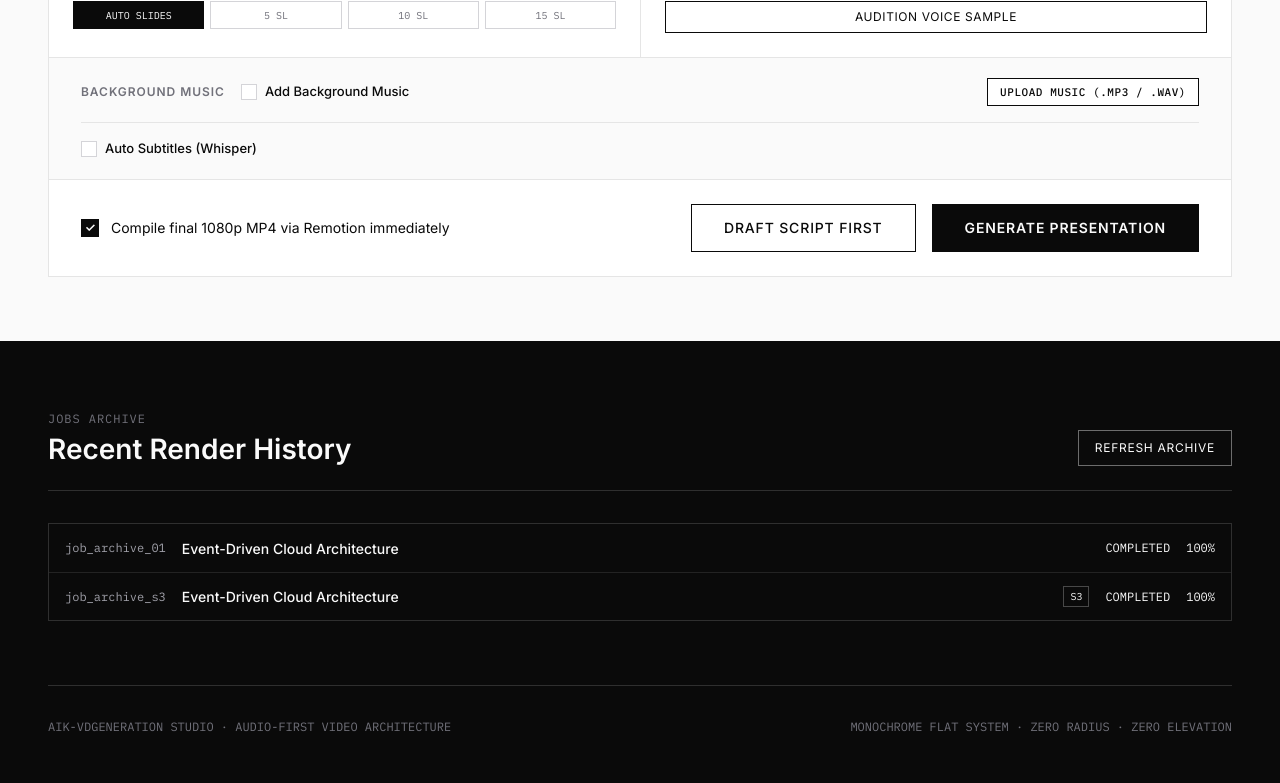
Test: Interactive Web Studio User Flows (jsdom + Testing Library) › restores an archived job from the inverse dark footer into the active studio
(page scrolled)
Click the button "job_archive_01". click: click(115, 548)
box: [49, 524, 1231, 572]
(page scrolled)
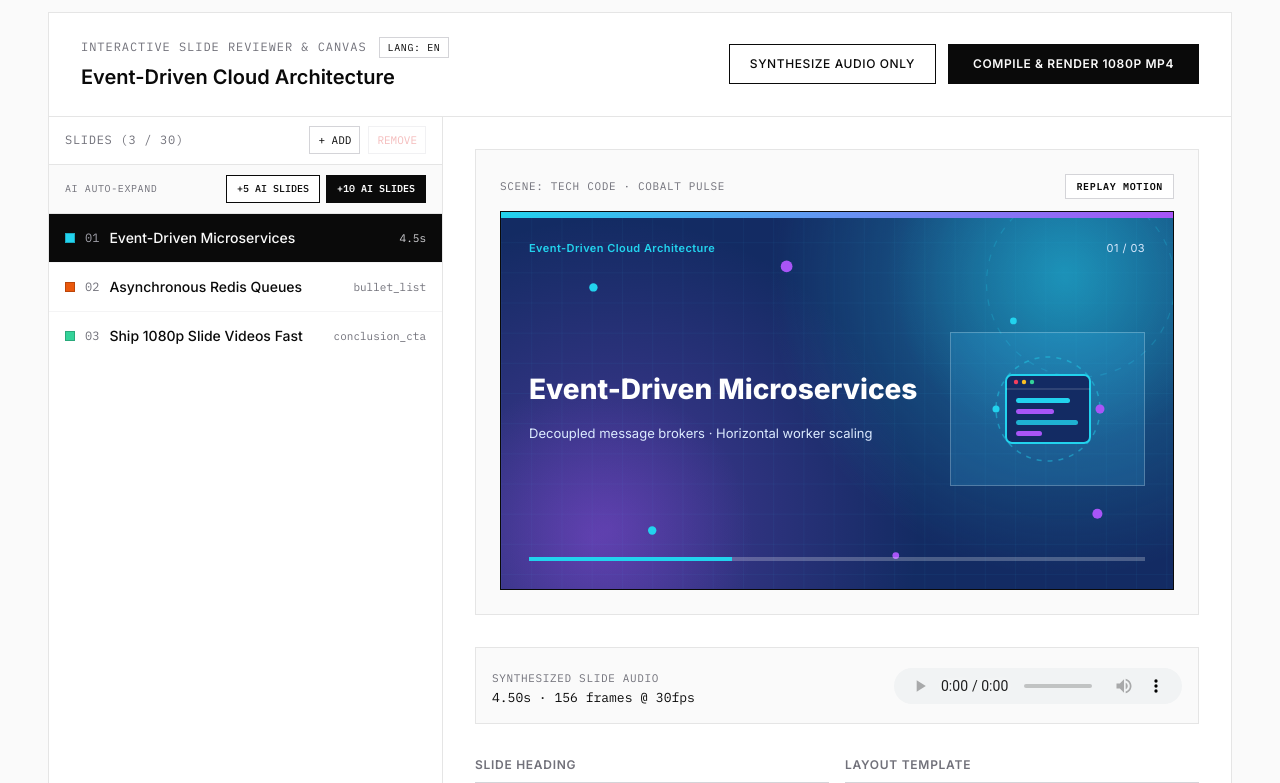
Result: the element with test id "live-slide-canvas" is shown at [500, 211, 1174, 590]
